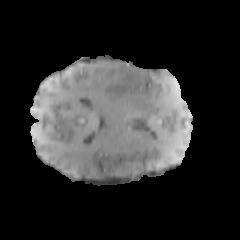glioma: (53, 61, 156, 102)
